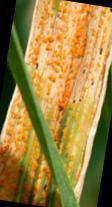Wheat: (42, 5, 84, 114), (2, 100, 29, 196), (31, 147, 52, 199), (89, 10, 110, 62), (88, 67, 103, 100)
